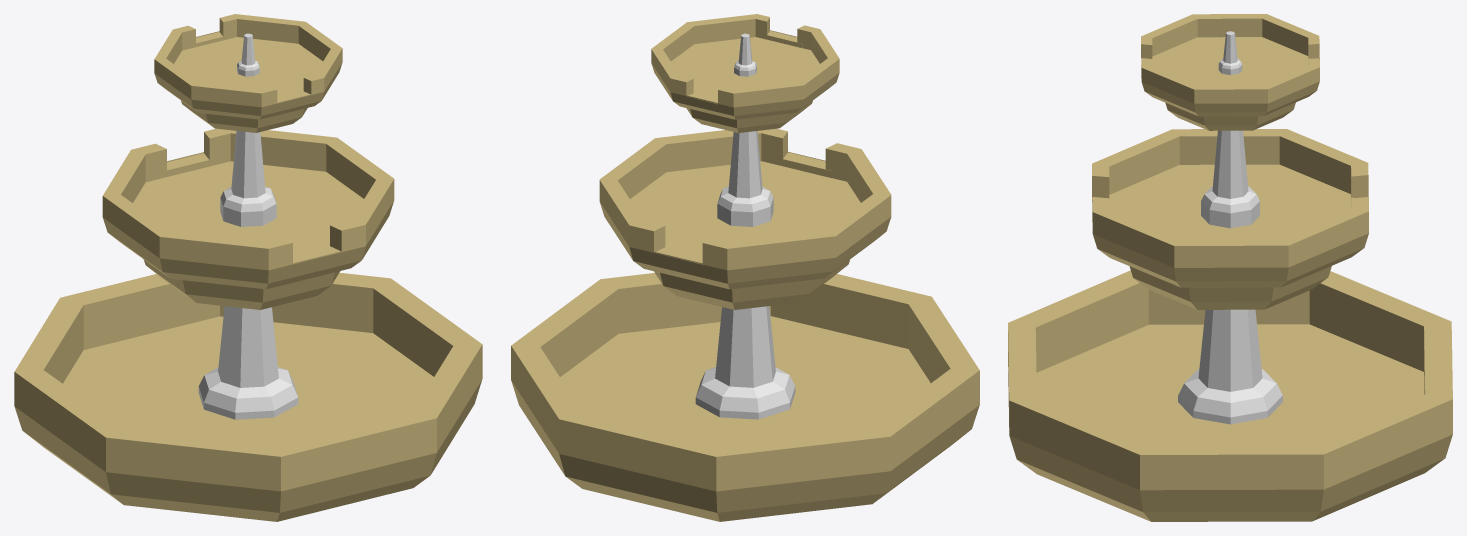
The model's file is 분수대테스트12.fbx.
The picture shows the model from 3 angles, left to right: view 1: azimuth 30°, elevation 25°; view 2: azimuth 150°, elevation 25°; view 3: azimuth 270°, elevation 25°; orthographic projection.
Parts seen in each view (by area): view 1: Cylinder, Cylinder.001; view 2: Cylinder, Cylinder.001; view 3: Cylinder, Cylinder.001.
Boxes of the visible parts, x1,y1,x2,y2 form: Cylinder: (14, 14, 482, 521); Cylinder.001: (198, 33, 298, 419); Cylinder: (511, 14, 979, 521); Cylinder.001: (695, 33, 795, 419); Cylinder: (1008, 14, 1452, 521); Cylinder.001: (1178, 31, 1282, 424).
Size of the model in its own units: 82.66 by 84.71 by 82.66.
